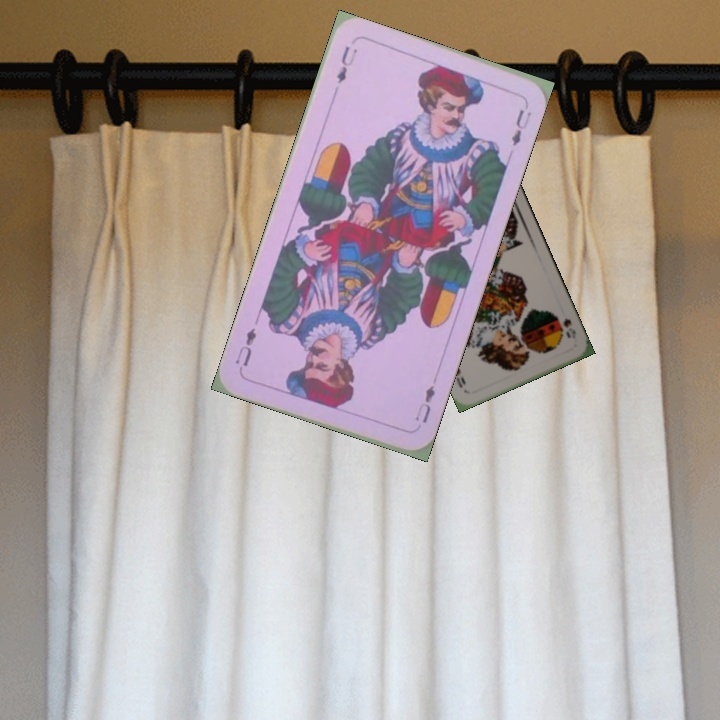EU: (332, 42, 361, 86), (410, 381, 438, 426)
SO: (559, 314, 579, 341)
